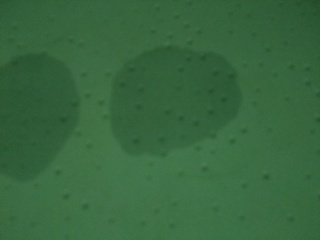Water_detected: (131, 59, 223, 148), (0, 76, 80, 159)
